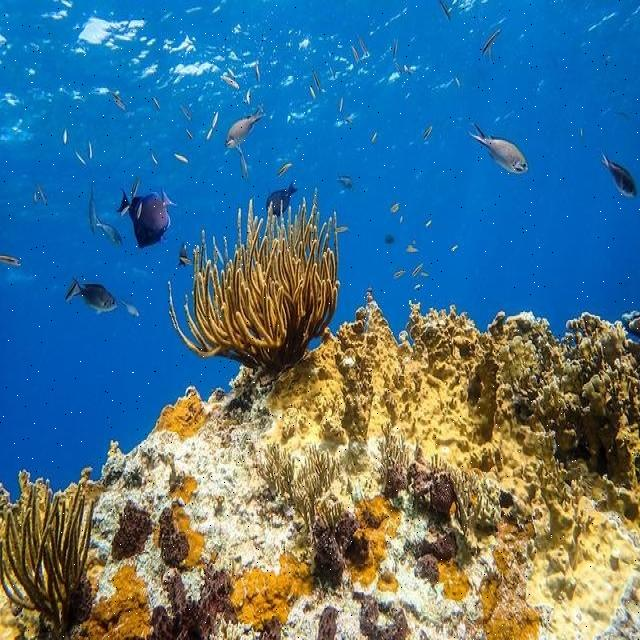aquatic plants: (166, 185, 344, 384), (1, 480, 94, 638)
fish: (115, 176, 182, 249), (225, 103, 267, 181), (467, 121, 528, 174), (88, 182, 123, 246), (64, 276, 118, 314), (597, 149, 637, 199), (266, 180, 299, 217), (480, 27, 507, 56), (392, 260, 431, 280), (220, 67, 240, 91), (206, 109, 220, 141), (118, 298, 140, 317), (111, 91, 130, 113), (242, 60, 260, 83), (394, 39, 405, 75), (274, 161, 294, 180), (355, 34, 370, 59), (72, 146, 89, 168), (178, 244, 193, 267), (34, 183, 48, 205), (336, 177, 354, 192), (172, 151, 190, 165), (178, 103, 192, 120), (1, 256, 22, 267), (351, 45, 362, 65), (312, 69, 321, 92), (405, 242, 421, 253), (150, 152, 159, 169), (423, 126, 433, 141), (152, 95, 160, 111), (390, 202, 401, 213), (185, 127, 193, 139), (63, 127, 68, 146), (88, 141, 93, 160), (339, 95, 344, 113)
sea-floor: (64, 289, 639, 639)
